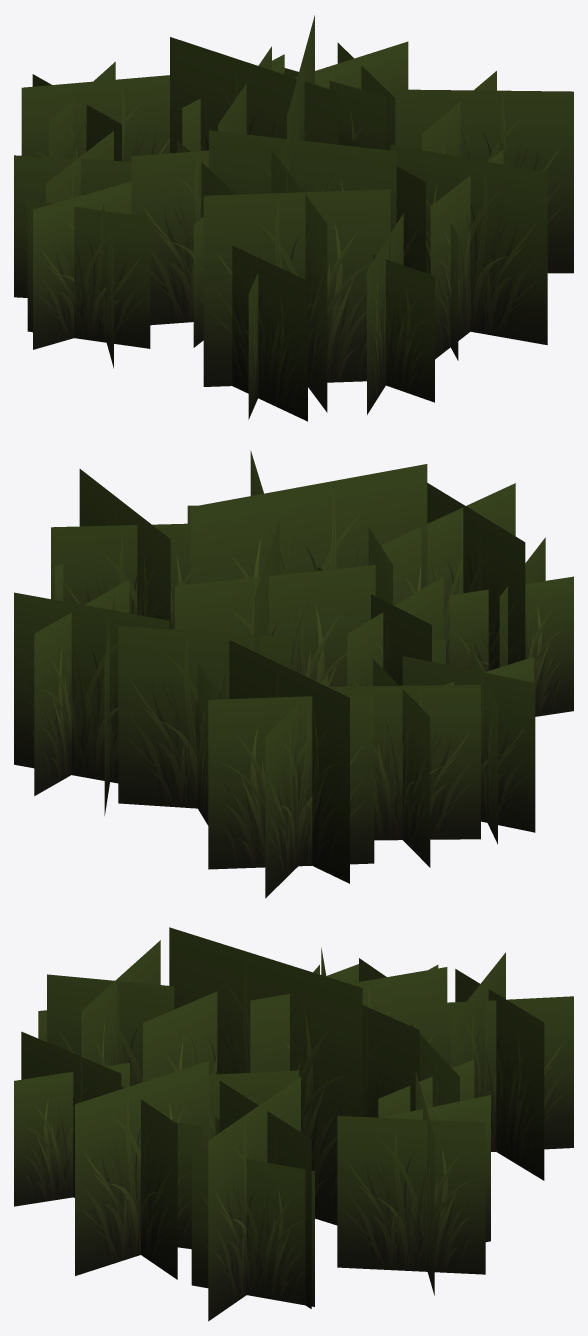
File: Grass_03.fbx
The picture shows the model from 3 angles, top to bottom: view 1: azimuth 30°, elevation 25°; view 2: azimuth 150°, elevation 25°; view 3: azimuth 270°, elevation 25°; orthographic projection. The views are drawn at different scales.
Parts seen in each view (by area): view 1: Grass_03; view 2: Grass_03; view 3: Grass_03.
Boxes of the visible parts, box(x1,y1,x2,y2) form: Grass_03: box(14, 15, 573, 421); Grass_03: box(14, 450, 573, 898); Grass_03: box(14, 927, 573, 1321).
Size of the model in its own units: 3.02 by 1.47 by 3.04.
Materials: 1 (1 with a texture image).
